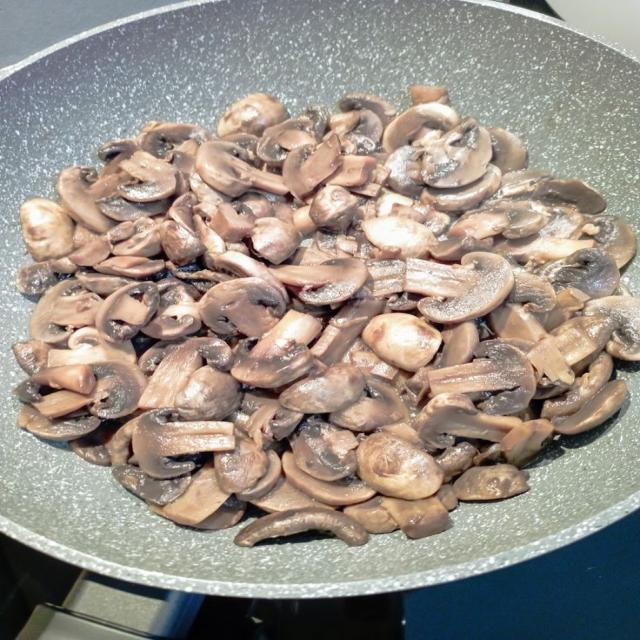champignon mushrooms: (14, 86, 639, 545), (427, 339, 536, 414), (132, 410, 235, 478), (232, 310, 321, 388), (419, 253, 513, 323), (140, 338, 232, 409), (414, 394, 521, 448), (357, 433, 443, 499), (195, 141, 288, 197), (234, 508, 368, 546), (199, 278, 286, 336), (282, 452, 375, 506), (421, 118, 492, 188), (29, 278, 102, 345), (311, 298, 383, 364), (541, 353, 613, 418), (362, 313, 441, 372), (270, 259, 368, 305), (330, 377, 408, 432), (280, 363, 364, 414), (159, 464, 228, 526), (290, 420, 358, 481), (552, 380, 627, 434), (382, 103, 459, 153), (282, 135, 341, 200), (56, 168, 115, 232), (95, 282, 159, 341), (421, 164, 501, 211), (584, 296, 639, 360), (47, 327, 136, 366), (175, 366, 239, 420), (550, 248, 619, 298), (20, 199, 73, 261), (113, 465, 191, 506), (91, 361, 146, 419), (217, 93, 288, 137), (214, 436, 268, 493), (361, 217, 435, 258), (249, 476, 333, 512), (256, 118, 318, 166), (118, 151, 176, 202), (18, 405, 100, 441), (135, 122, 213, 159), (582, 215, 636, 267), (381, 498, 449, 539), (454, 464, 529, 500), (531, 178, 606, 214), (500, 419, 553, 467), (249, 217, 301, 264), (308, 185, 359, 231), (237, 450, 281, 501), (507, 269, 556, 313), (436, 321, 479, 368), (344, 496, 398, 533), (385, 145, 424, 196), (339, 93, 396, 127), (32, 365, 96, 394), (488, 127, 527, 172), (435, 442, 478, 482), (94, 256, 165, 279), (16, 263, 58, 295), (13, 340, 49, 375), (409, 84, 449, 105)
